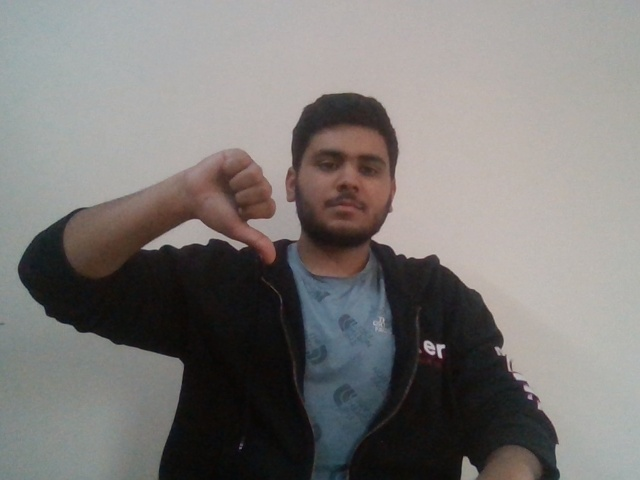No: (183, 149, 285, 264)
